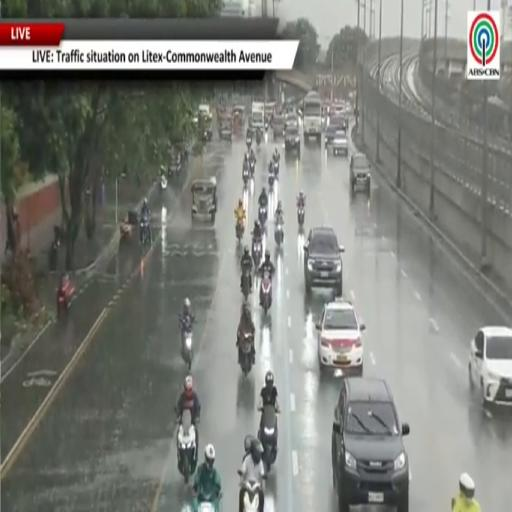bus: (303, 91, 322, 142)
car: (332, 377, 410, 511), (316, 298, 365, 376), (469, 327, 511, 406), (304, 228, 344, 296), (350, 153, 371, 195), (284, 124, 300, 154), (332, 130, 348, 155), (273, 114, 284, 139), (285, 111, 298, 130), (325, 124, 336, 146), (329, 116, 345, 127)
jeepney: (191, 178, 217, 222)
motorcycle: (177, 410, 197, 484), (258, 406, 277, 472), (238, 333, 254, 376), (57, 280, 74, 316), (242, 479, 260, 511), (182, 324, 193, 370), (261, 270, 272, 314), (192, 494, 220, 511), (140, 217, 151, 246), (252, 239, 262, 268), (242, 268, 250, 300), (275, 219, 284, 246), (258, 205, 268, 228), (242, 166, 251, 187), (297, 206, 305, 228), (236, 221, 244, 242), (268, 170, 275, 188), (273, 160, 279, 179), (249, 159, 255, 177), (161, 174, 167, 191), (256, 130, 262, 146), (246, 137, 252, 149)
truck: (252, 102, 264, 132)
